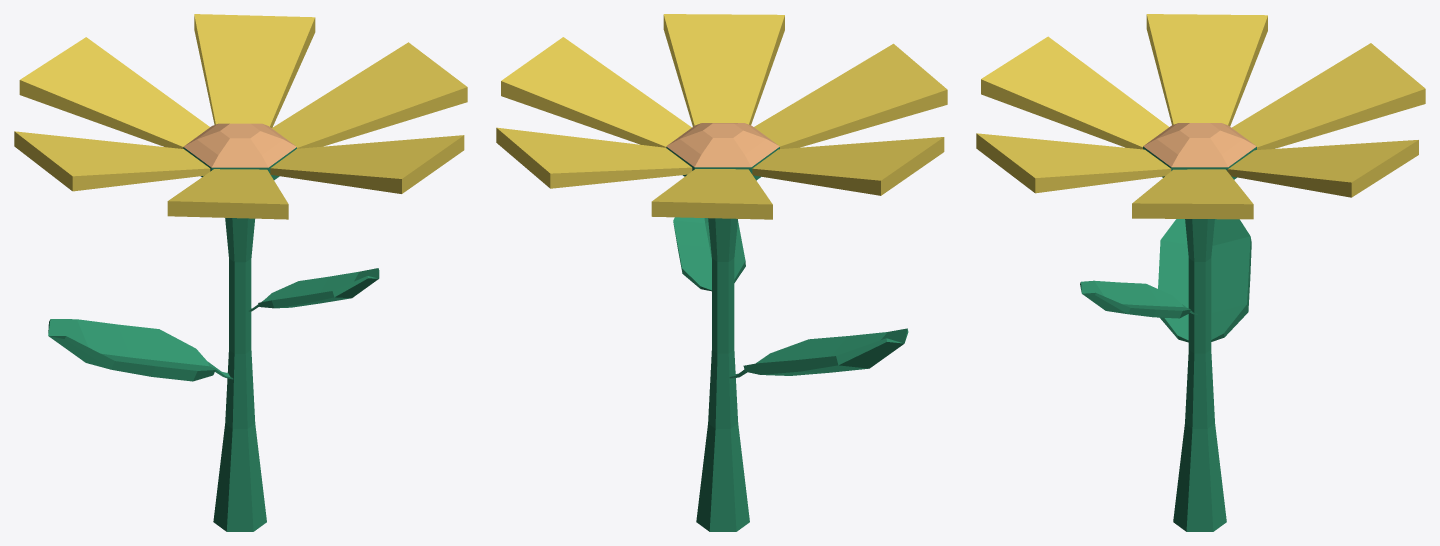
The model's file is flower4.fbx.
3 renders of one model, left to right at view 1: azimuth 30°, elevation 25°; view 2: azimuth 150°, elevation 25°; view 3: azimuth 270°, elevation 25°, orthographic.
Visible parts, largest first — view 1: Cube, Circle; view 2: Cube, Circle; view 3: Cube, Circle.
Part boxes in pixels (x1=…): Cube: x1=14, y1=14, x2=467, y2=219; Circle: x1=48, y1=123, x2=379, y2=531; Cube: x1=496, y1=14, x2=947, y2=219; Circle: x1=666, y1=123, x2=908, y2=531; Cube: x1=976, y1=14, x2=1425, y2=219; Circle: x1=1080, y1=123, x2=1256, y2=531.
Bounding box in the file's own units: 991 × 1004 × 990.
